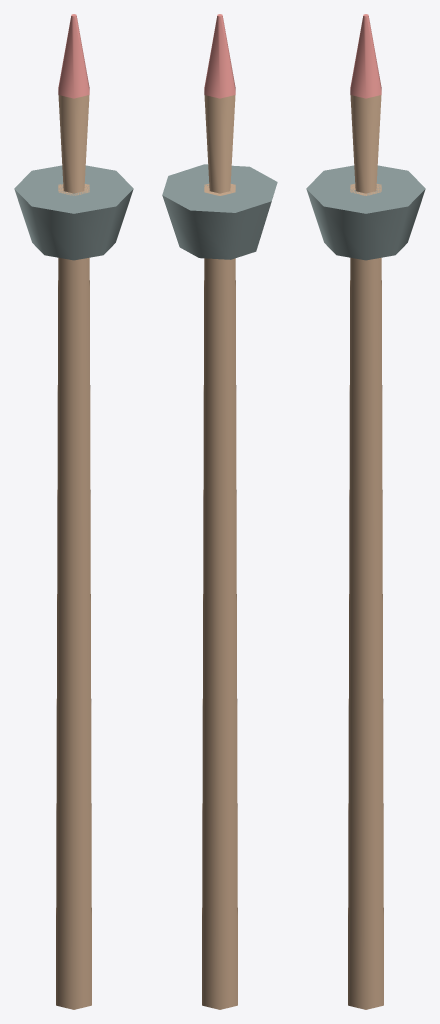
File: tikiTorch.glb
The picture shows the model from 3 angles, left to right: view 1: azimuth 90°, elevation 25°; view 2: azimuth 150°, elevation 25°; view 3: azimuth 270°, elevation 25°; orthographic projection.
Visible parts, largest first — view 1: tikiTorch; view 2: tikiTorch; view 3: tikiTorch.
Boxes of the visible parts, box(x1,y1,x2,y2) form: tikiTorch: box(14, 14, 133, 1009); tikiTorch: box(162, 14, 277, 1009); tikiTorch: box(306, 14, 425, 1009).
Bounding box in the file's own units: 0.1 × 0.91 × 0.1.
